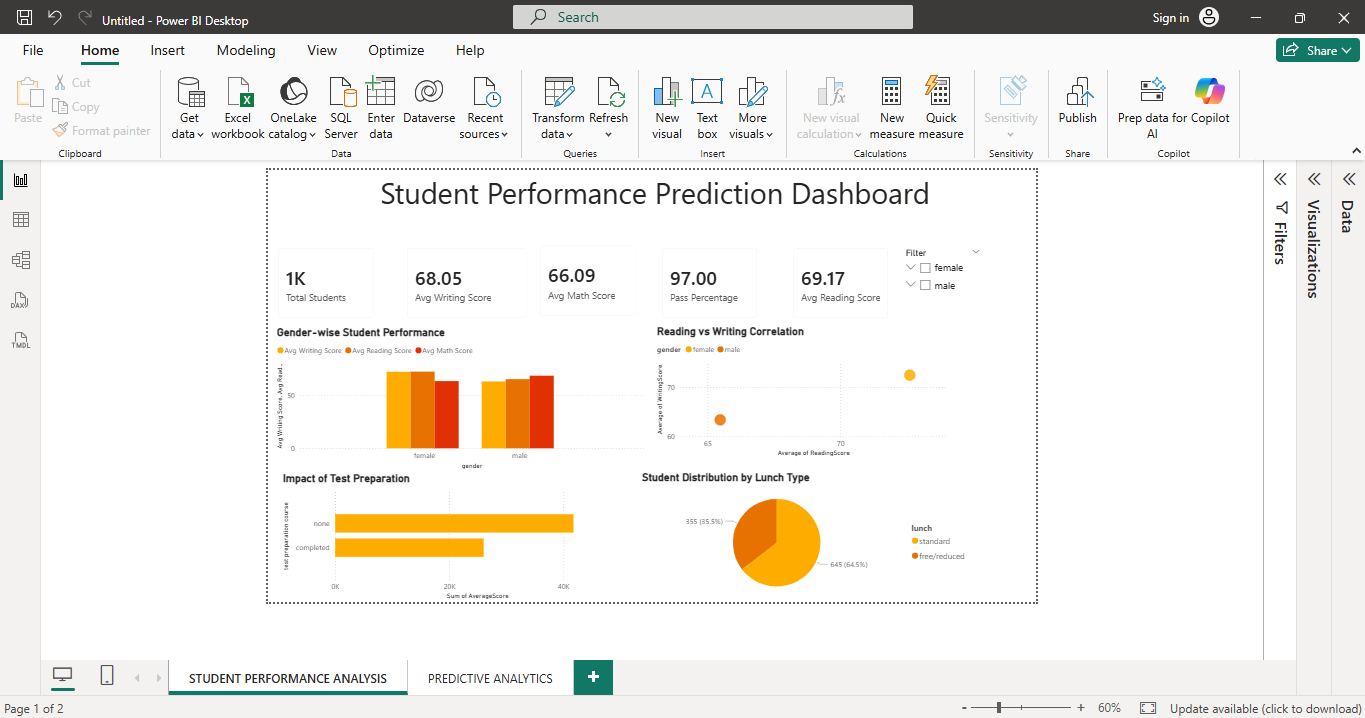

Layout of this report page (visuals, bound fields, positions):
{"tool":"powerbi","page":{"name":"STUDENT PERFORMANCE ANALYSIS","canvas":[1280,720],"ordinal":0},"visuals":[{"type":"textbox","box":[10.1,0,1269.9,110.9],"z":0},{"type":"textbox","box":[10.1,0,1269.9,97.4],"z":1000},{"type":"cardVisual","fields":{"Data":["StudentsPerformance.Total Students"]},"box":[0,112.7,193.7,150.8],"z":2000},{"type":"cardVisual","fields":{"Data":["StudentsPerformance.Avg Math Score"]},"box":[436.5,107.9,193.7,152.4],"z":3000},{"type":"cardVisual","fields":{"Data":["StudentsPerformance.Avg Reading Score"]},"box":[858.7,112.7,192.1,150.8],"z":4000},{"type":"cardVisual","fields":{"Data":["StudentsPerformance.Avg Writing Score"]},"box":[214.3,112.7,233.3,150.8],"z":5000},{"type":"cardVisual","fields":{"Data":["StudentsPerformance.Pass Percentage"]},"box":[639.7,112.7,192.1,150.8],"z":6000},{"type":"clusteredColumnChart","title":"Gender-wise Student Performance","fields":{"Category":["StudentsPerformance.gender"],"Y":["StudentsPerformance.Avg Writing Score","StudentsPerformance.Avg Reading Score","StudentsPerformance.Avg Math Score"]},"box":[9.5,260.3,620.6,242.9],"z":7000},{"type":"barChart","title":"Impact of Test Preparation","fields":{"Category":["StudentsPerformance.test preparation course"],"Y":["Sum(StudentsPerformance.AverageScore)"]},"box":[20.6,503.2,582.5,217.5],"z":7001},{"type":"pieChart","title":"Student Distribution by Lunch Type","fields":{"Category":["StudentsPerformance.lunch"],"Y":["StudentsPerformance.Total Students"]},"box":[618,502,558,218],"z":7002},{"type":"scatterChart","title":"Reading vs Writing Correlation","fields":{"X":["Avg(StudentsPerformance.ReadingScore)"],"Y":["Avg(StudentsPerformance.WritingScore)"],"Series":["StudentsPerformance.gender"],"Size":["Sum(StudentsPerformance.MathScore)"]},"box":[644,258,500,224],"z":7003},{"type":"slicer","fields":{"Values":["StudentsPerformance.gender","StudentsPerformance.lunch","StudentsPerformance.parental level of education","StudentsPerformance.test preparation course"]},"box":[1050.8,125.4,149.2,119],"z":7004}]}

Visuals, with their boxes on the page's 1280x720 design canvas (x1, y1, x2, y2). These are canvas units, not pixel positions in the 1365x718 screenshot, which may show the page scaled, cropped or inside an application window:
textbox: Rect(10, 0, 1280, 111)
textbox: Rect(10, 0, 1280, 97)
cardVisual - StudentsPerformance.Total Students: Rect(0, 113, 194, 264)
cardVisual - StudentsPerformance.Avg Math Score: Rect(436, 108, 630, 260)
cardVisual - StudentsPerformance.Avg Reading Score: Rect(859, 113, 1051, 264)
cardVisual - StudentsPerformance.Avg Writing Score: Rect(214, 113, 448, 264)
cardVisual - StudentsPerformance.Pass Percentage: Rect(640, 113, 832, 264)
"Gender-wise Student Performance" clusteredColumnChart: Rect(10, 260, 630, 503)
"Impact of Test Preparation" barChart: Rect(21, 503, 603, 721)
"Student Distribution by Lunch Type" pieChart: Rect(618, 502, 1176, 720)
"Reading vs Writing Correlation" scatterChart: Rect(644, 258, 1144, 482)
slicer - StudentsPerformance.gender x StudentsPerformance.lunch: Rect(1051, 125, 1200, 244)
